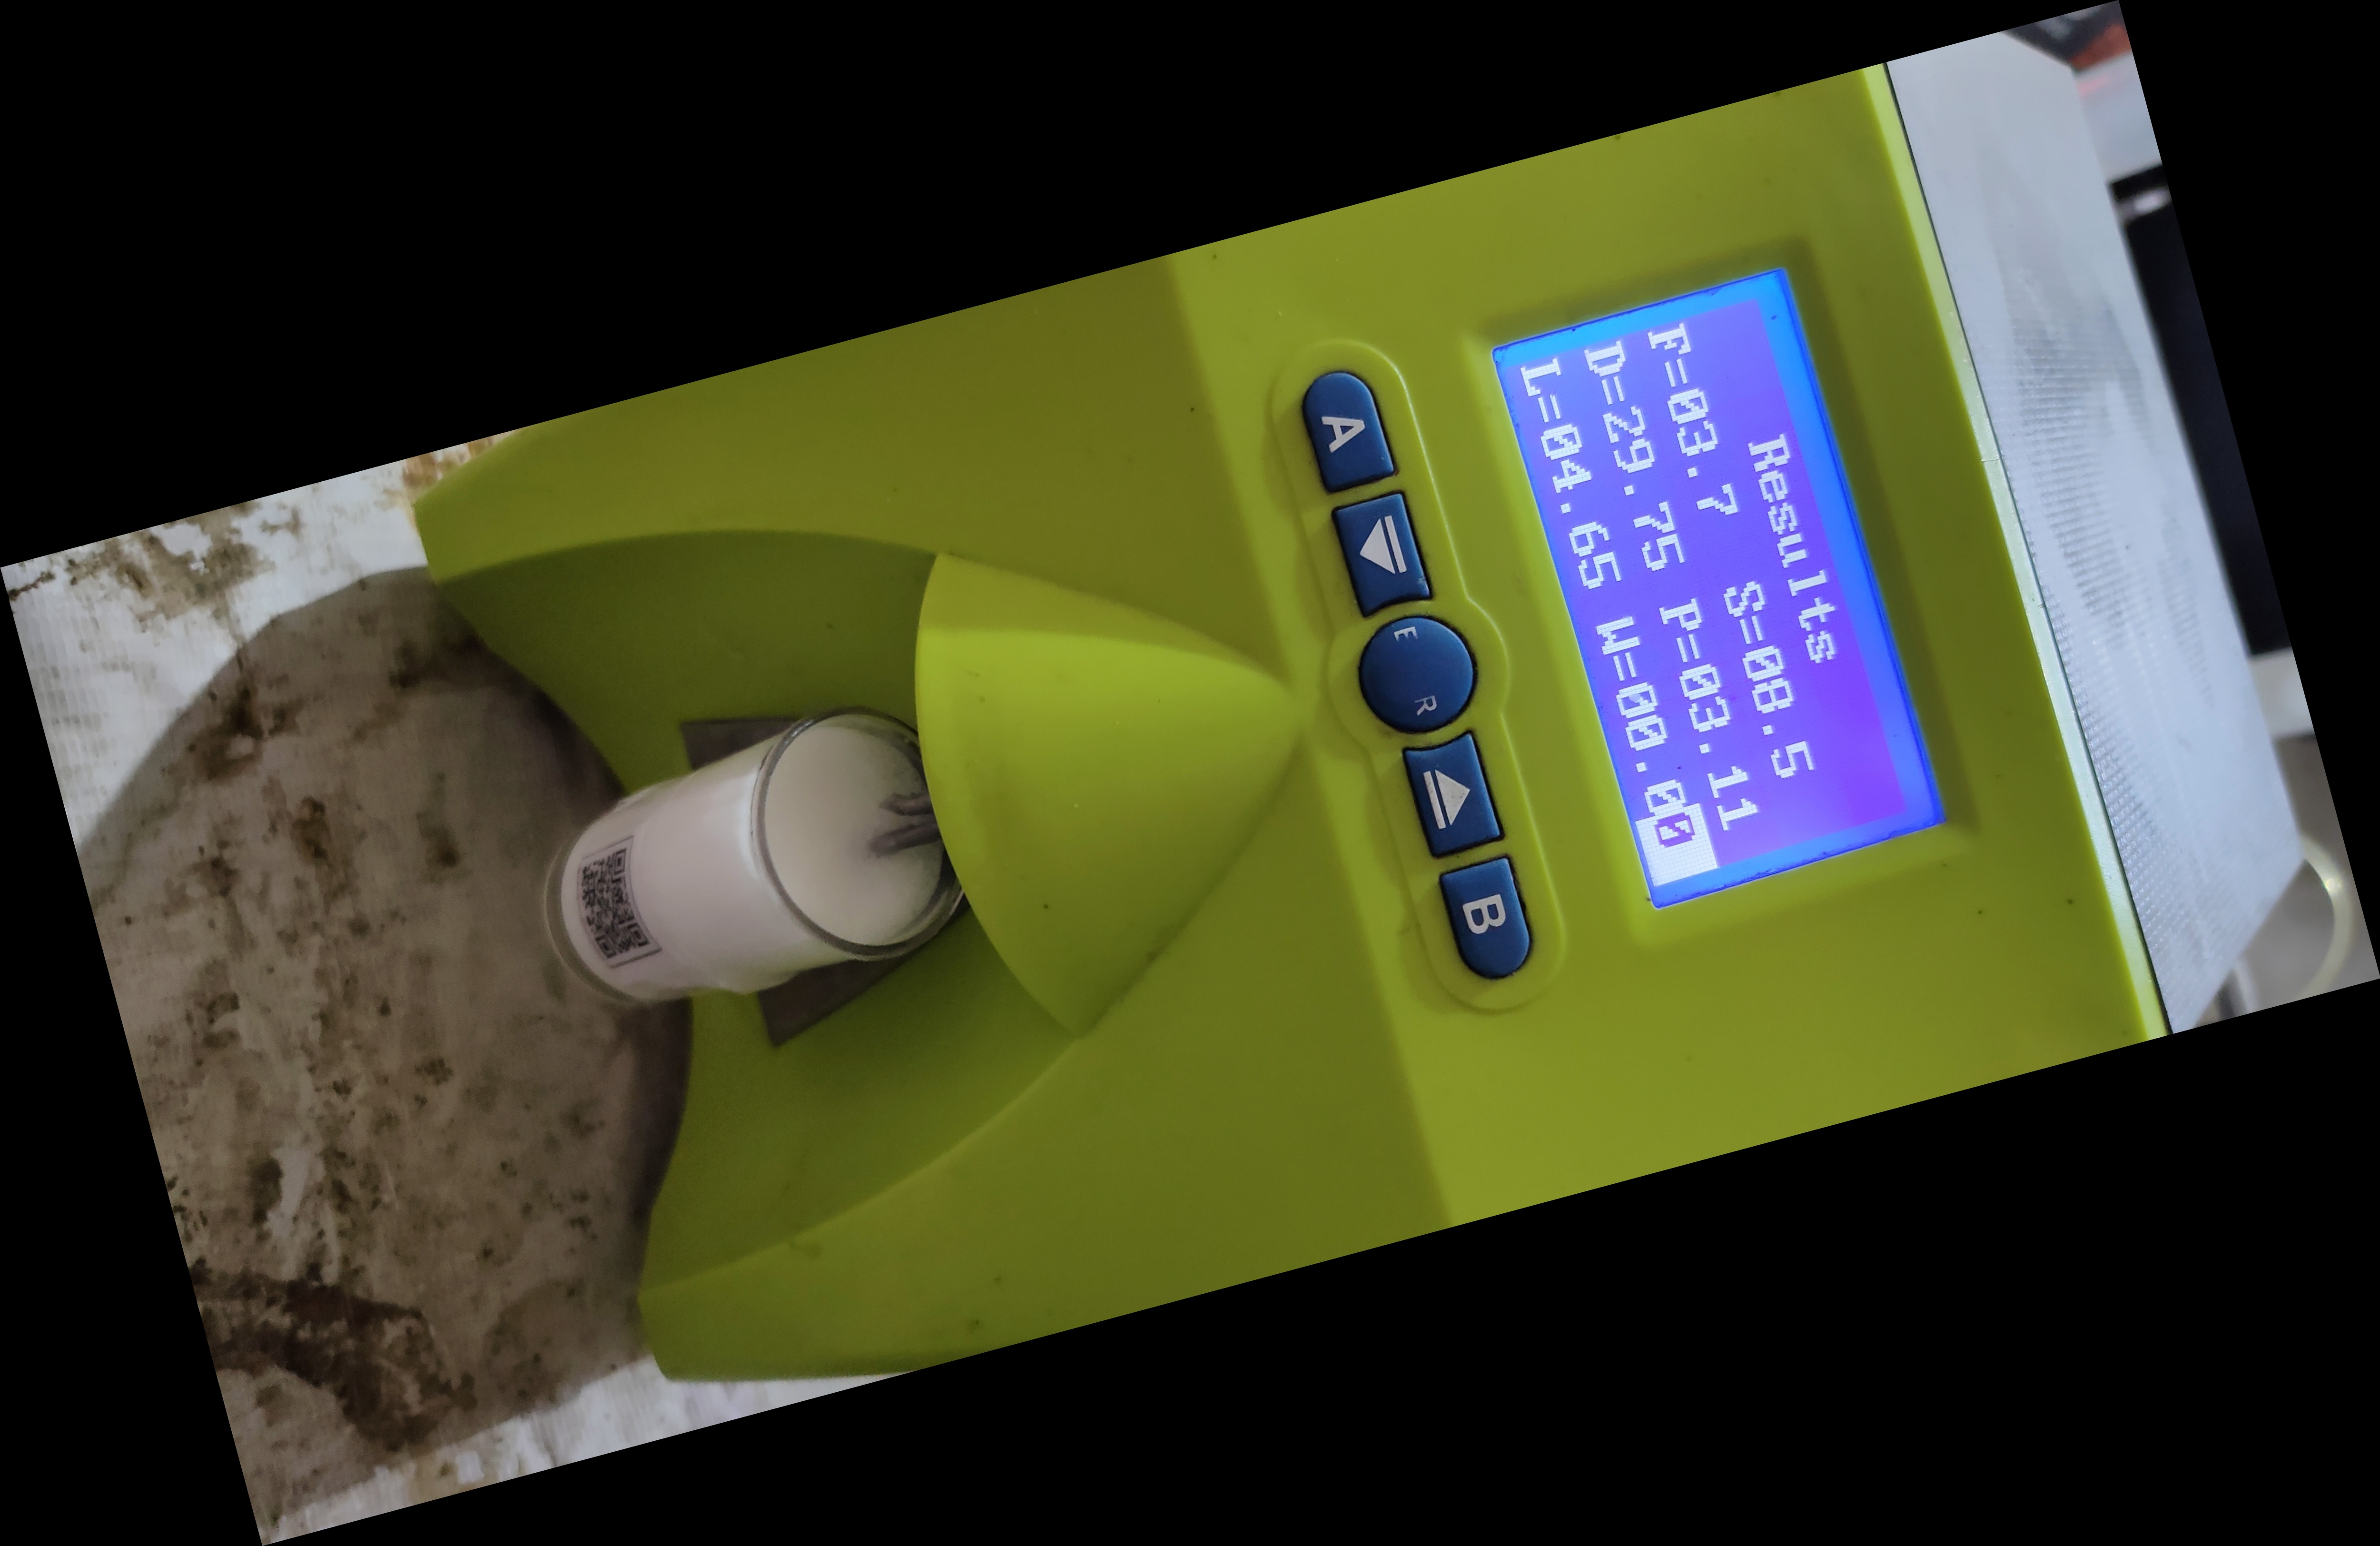lcd: (1476, 226, 2005, 932)
qr: (553, 838, 656, 968)
